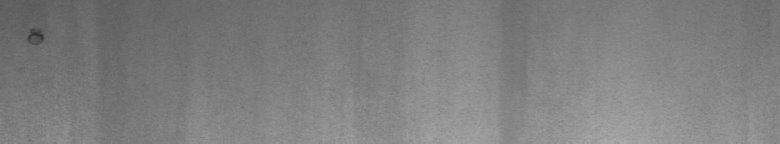fi: (24, 22, 48, 51)
